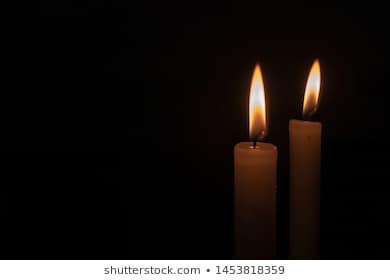Fire: (243, 60, 269, 139), (303, 55, 323, 119)
